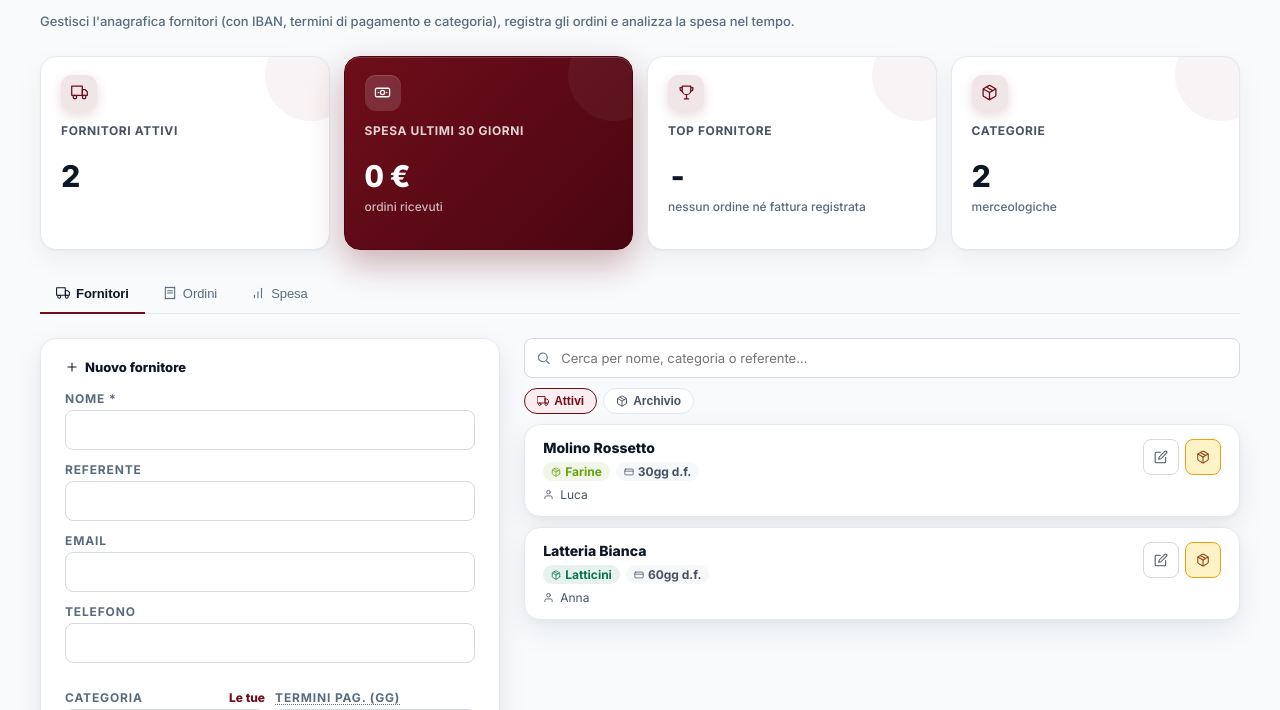
Test: archiviare, riattivare, eliminare › la ricerca trova per nome, per categoria e per referente
Type "latticini" into the field with placeholder "Cerca per nome, categoria o referente…" at x=882, y=358, box [524,338,1240,378]
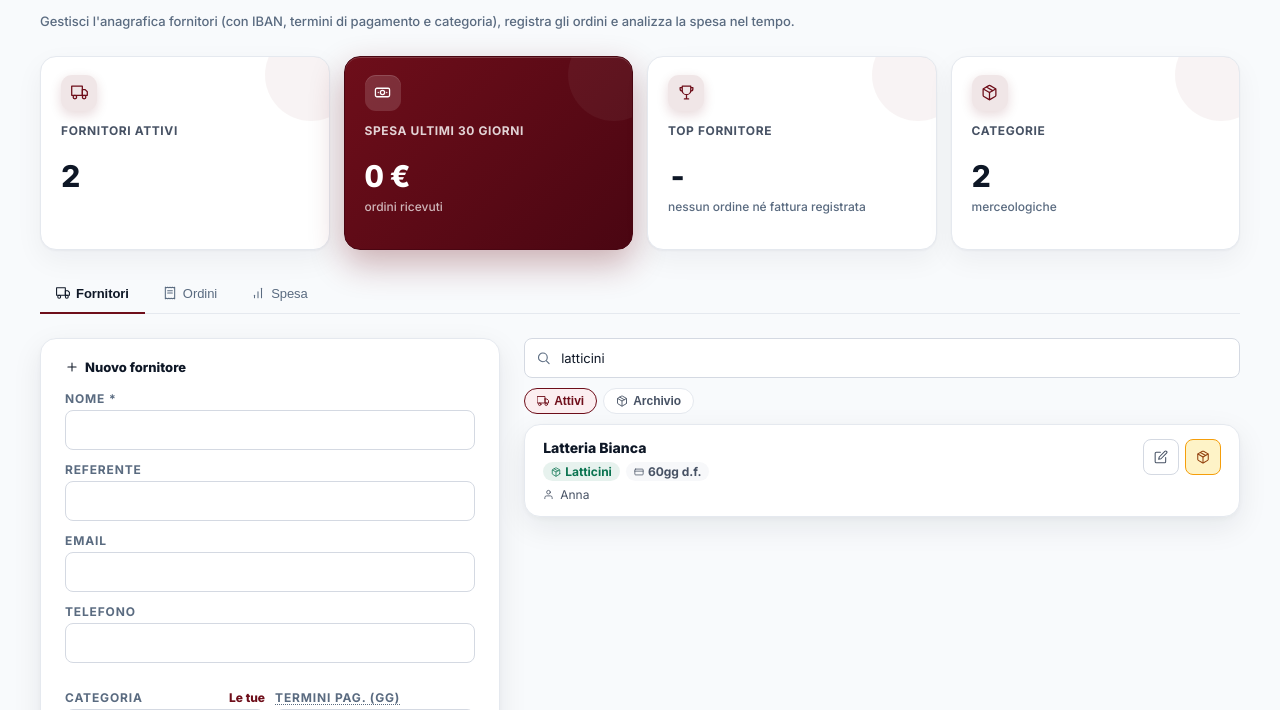
expect the text "Latteria Bianca" is shown: met, box [543,439,646,456]
expect the text "Molino Rossetto" is gone: met
Replace the text in the 1st field with "Luca" at x=882, y=358, box [524,338,1240,378]
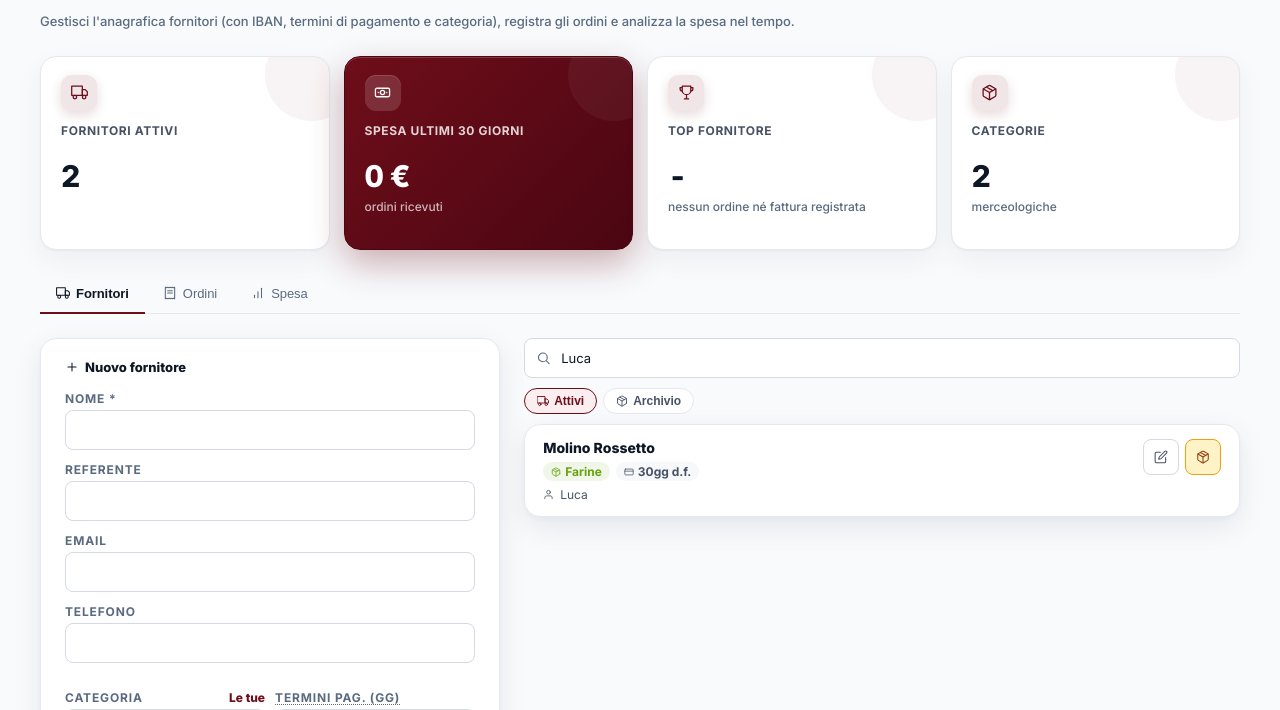
expect the text "Molino Rossetto" is shown: met, box [543,439,655,456]
expect the text "Latteria Bianca" is gone: met
Replace the text in the 1st field with "zzz" at x=882, y=358, box [524,338,1240,378]
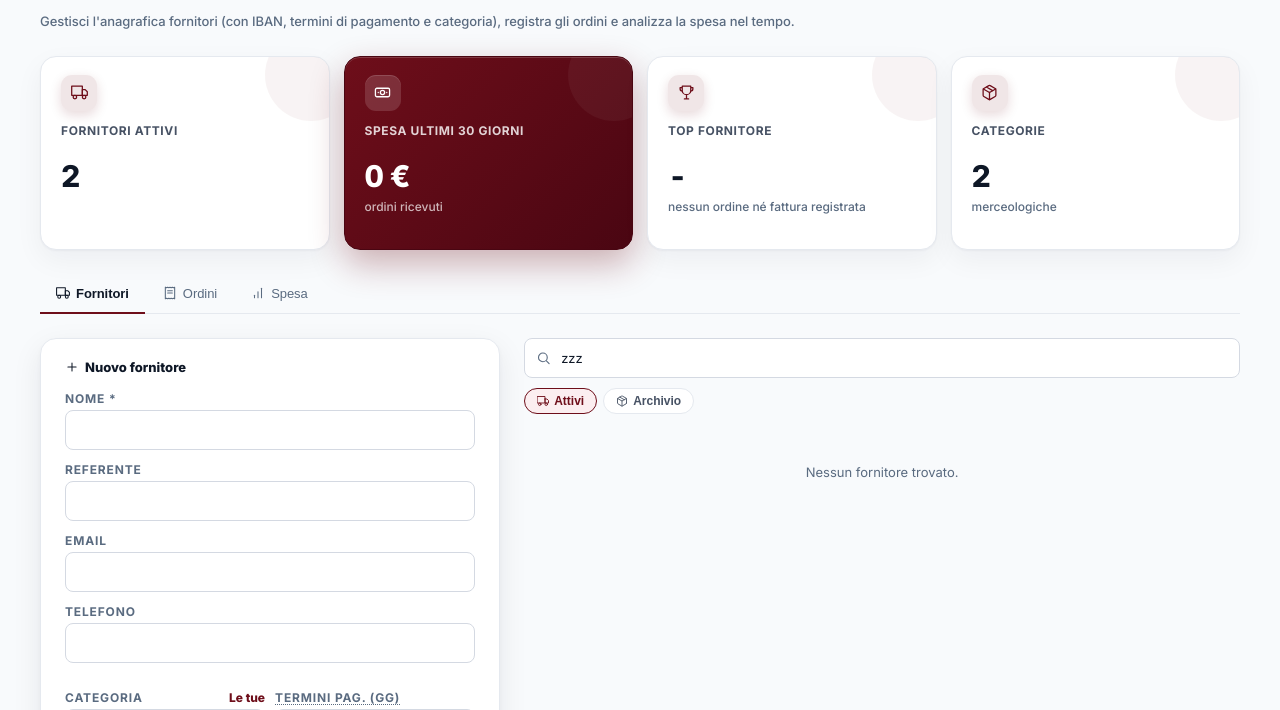
expect the text "Nessun fornitore trovato" is shown: met, box [806,464,958,480]
